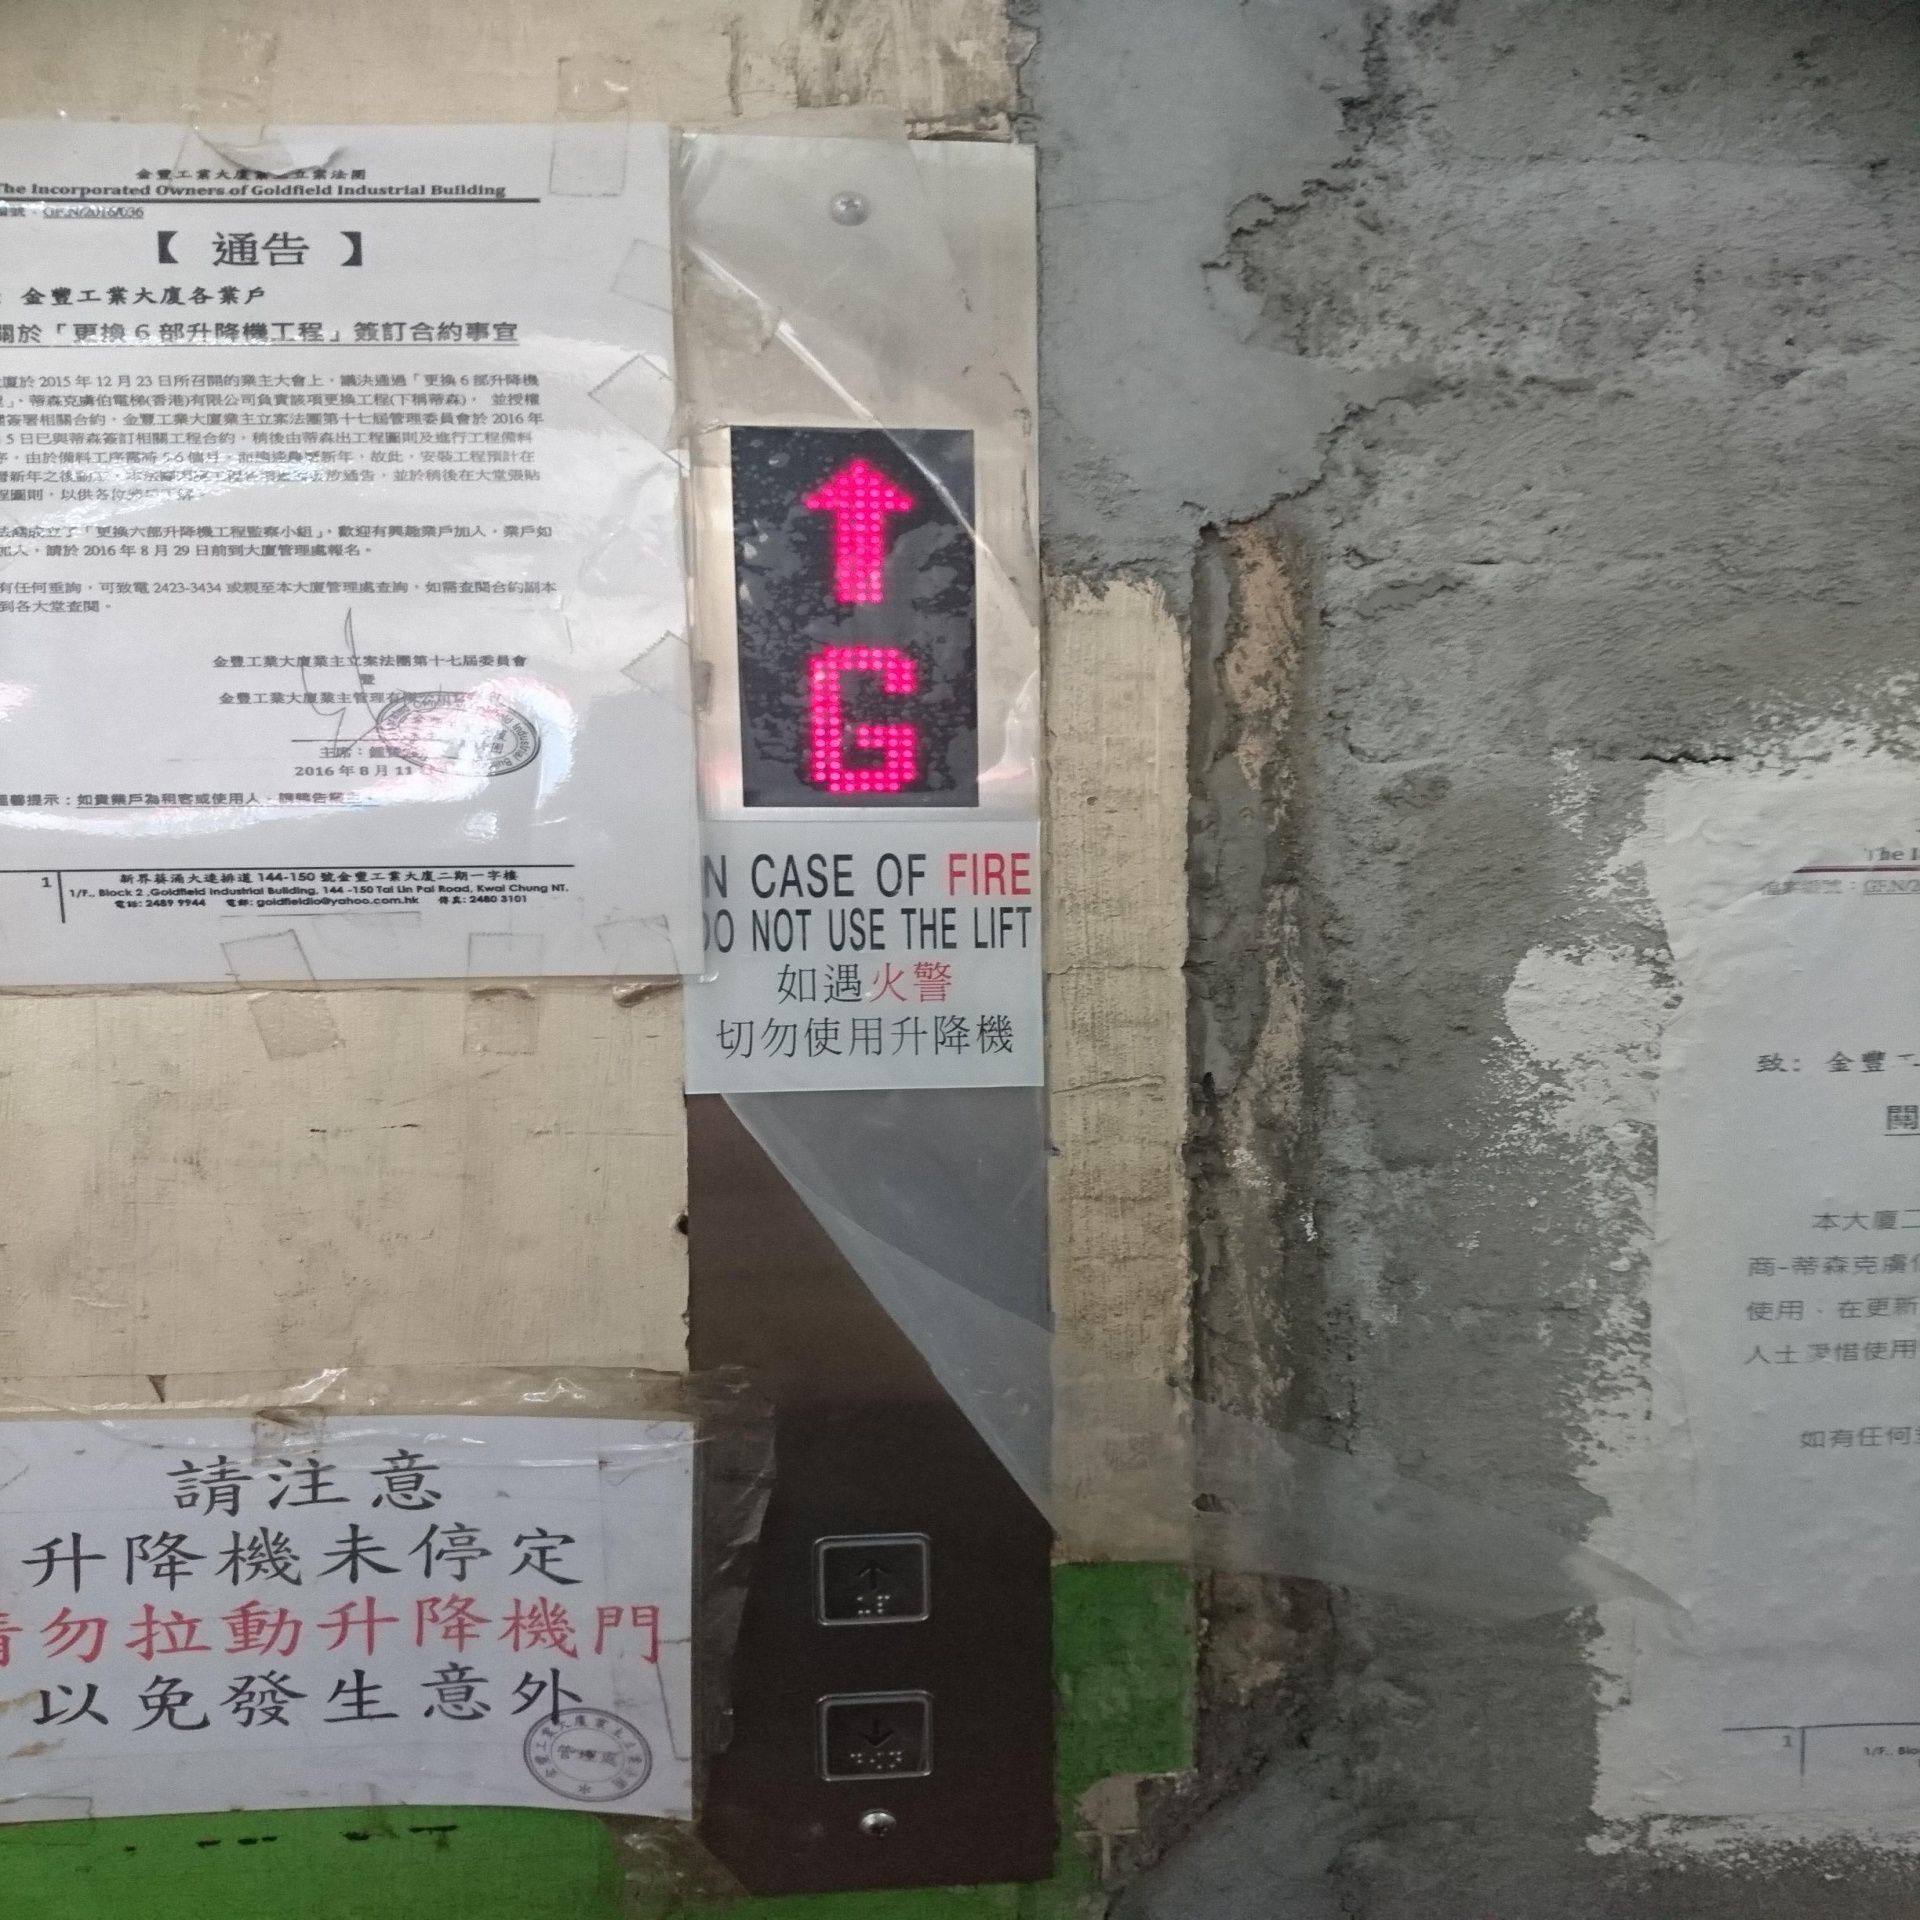down: (812, 1690, 941, 1788)
led: (724, 420, 986, 812)
up: (816, 1535, 935, 1632)
